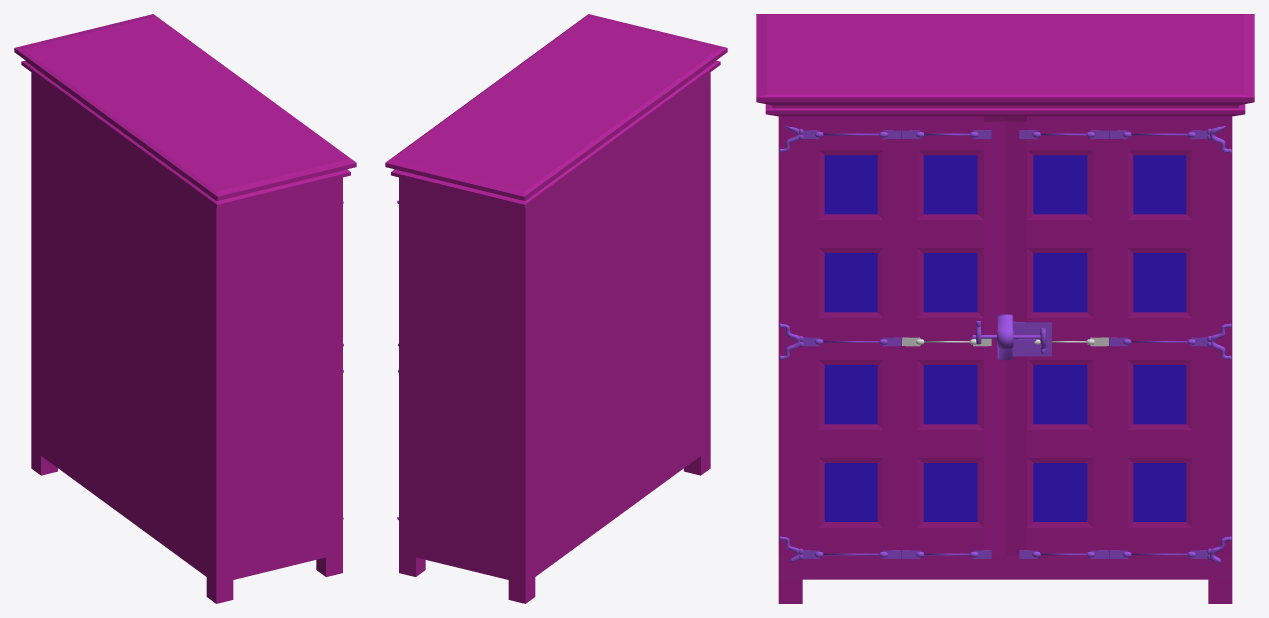
The model's file is Closet.fbx.
The picture shows the model from 3 angles, left to right: view 1: azimuth 30°, elevation 25°; view 2: azimuth 150°, elevation 25°; view 3: azimuth 270°, elevation 25°; orthographic projection. The views are drawn at different scales.
Visible parts, largest first — view 1: Cube; view 2: Cube; view 3: Cube, Cube.031, Cylinder.
Boxes of the visible parts, box(x1,y1,x2,y2) form: Cube: box(14, 14, 356, 603); Cube: box(385, 14, 727, 603); Cube: box(756, 14, 1254, 603); Cube.031: box(1012, 321, 1051, 356); Cylinder: box(997, 314, 1013, 360).
Bounding box in the file's own units: 579 × 1659 × 1467.
